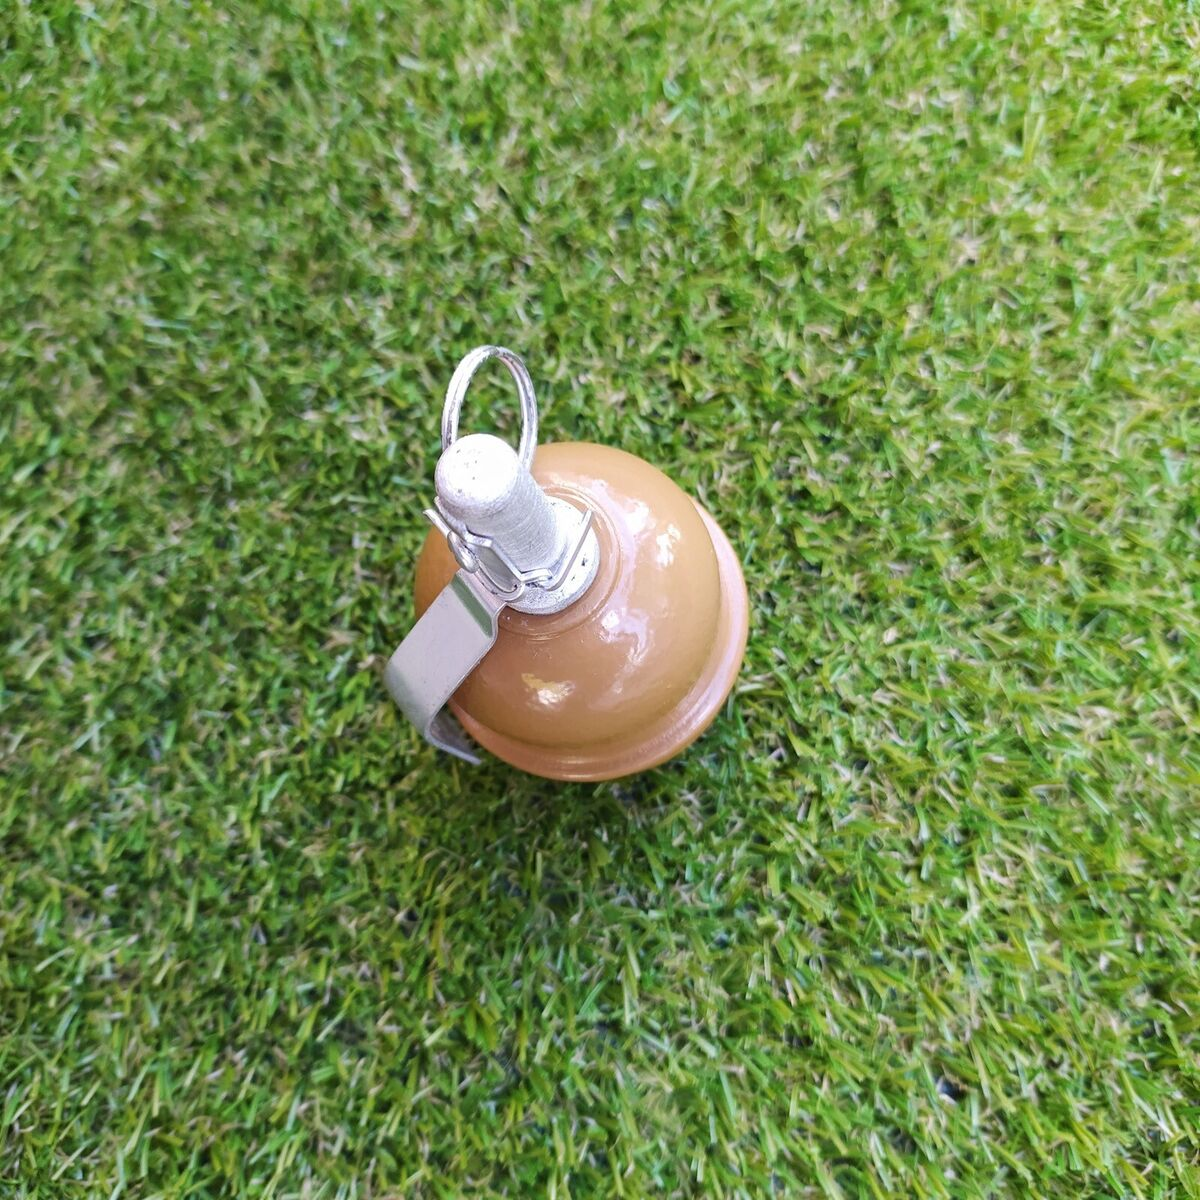RGD 5: (366, 352, 755, 788)
